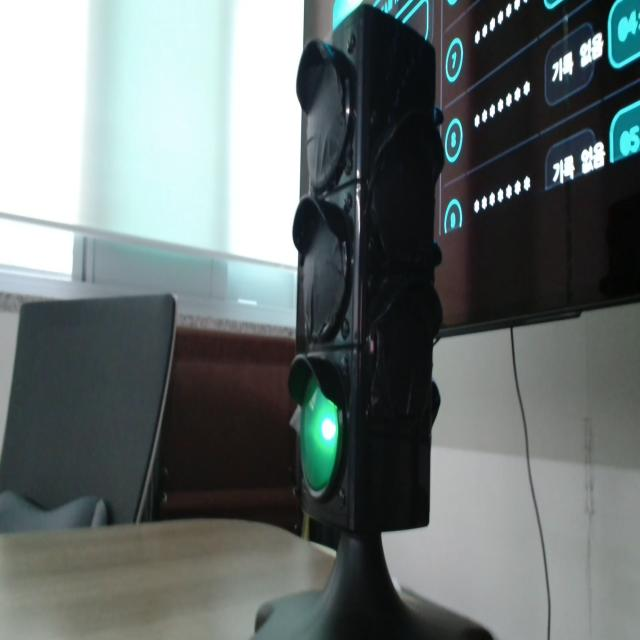green_light: (301, 378, 339, 492)
